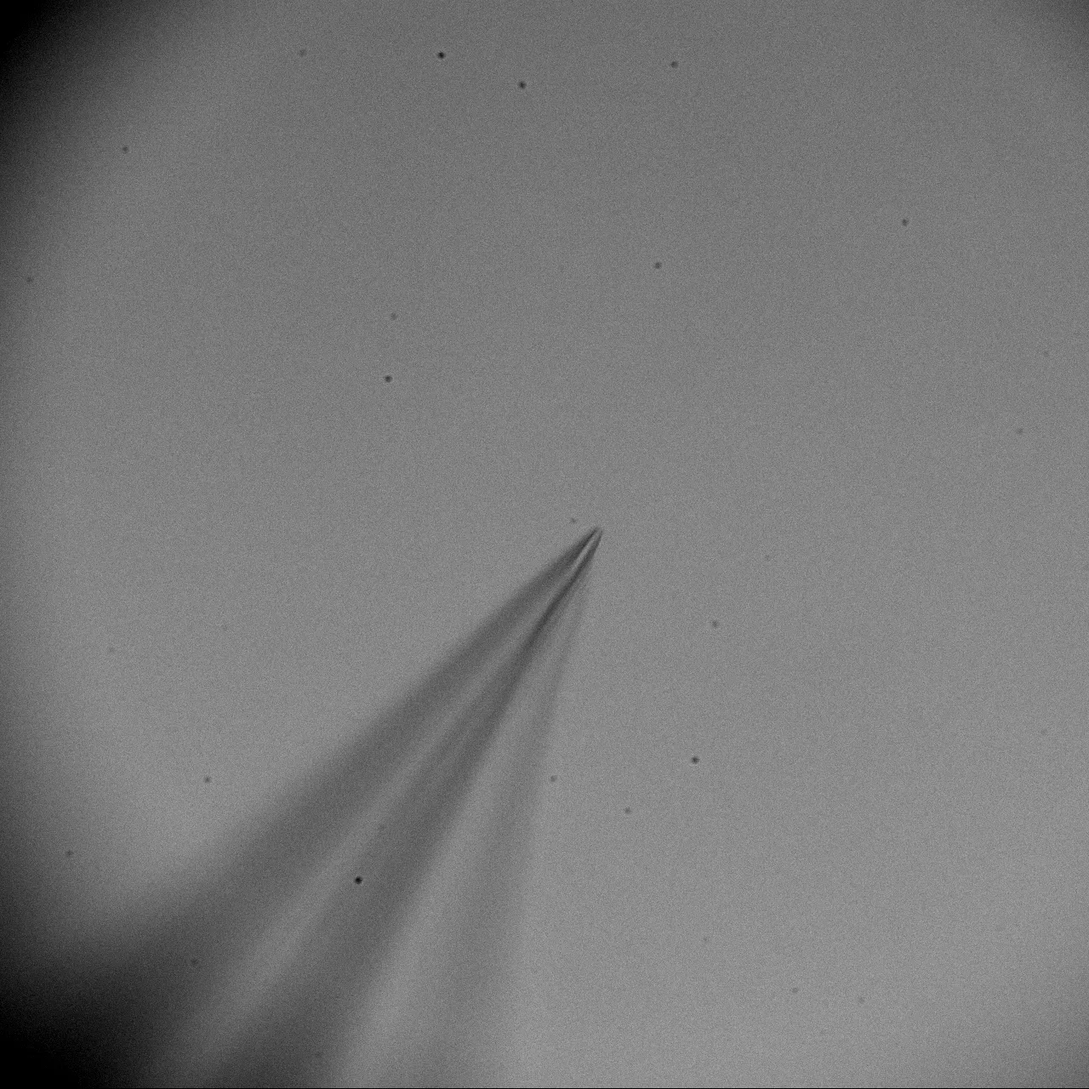tip: (520, 510, 637, 639)
